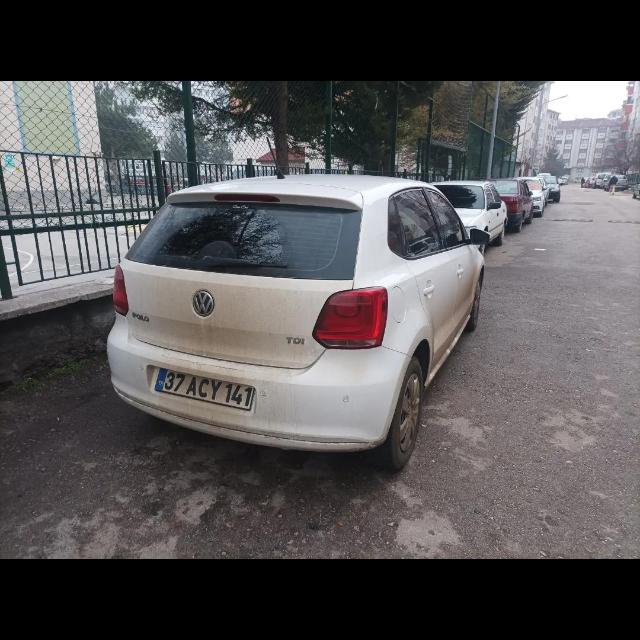Plaka: (156, 370, 258, 412)
